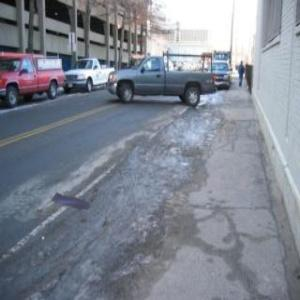drone: (26, 163, 112, 249)
